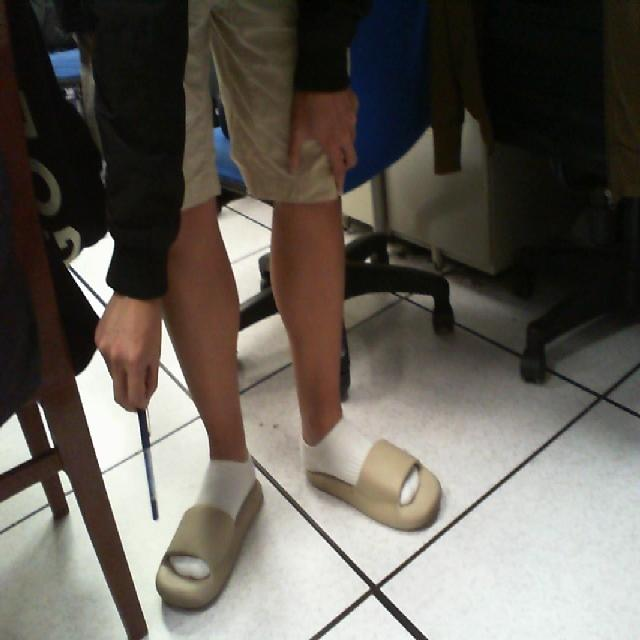Pen: (126, 384, 174, 553)
